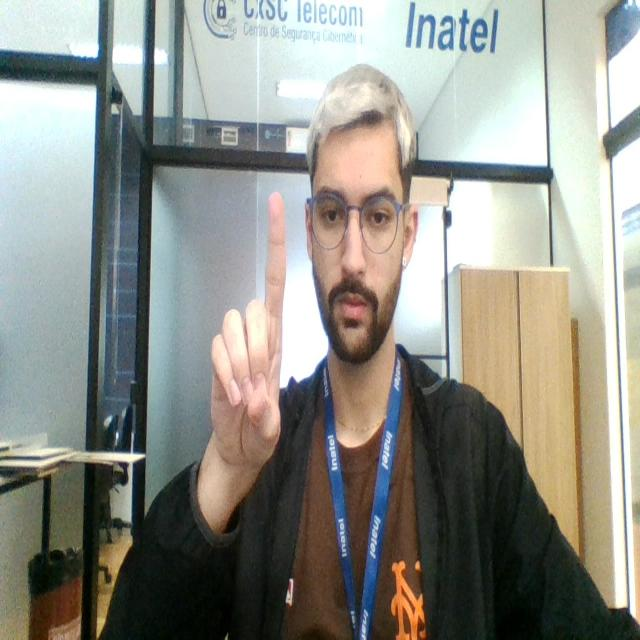D2: (208, 190, 291, 478)
